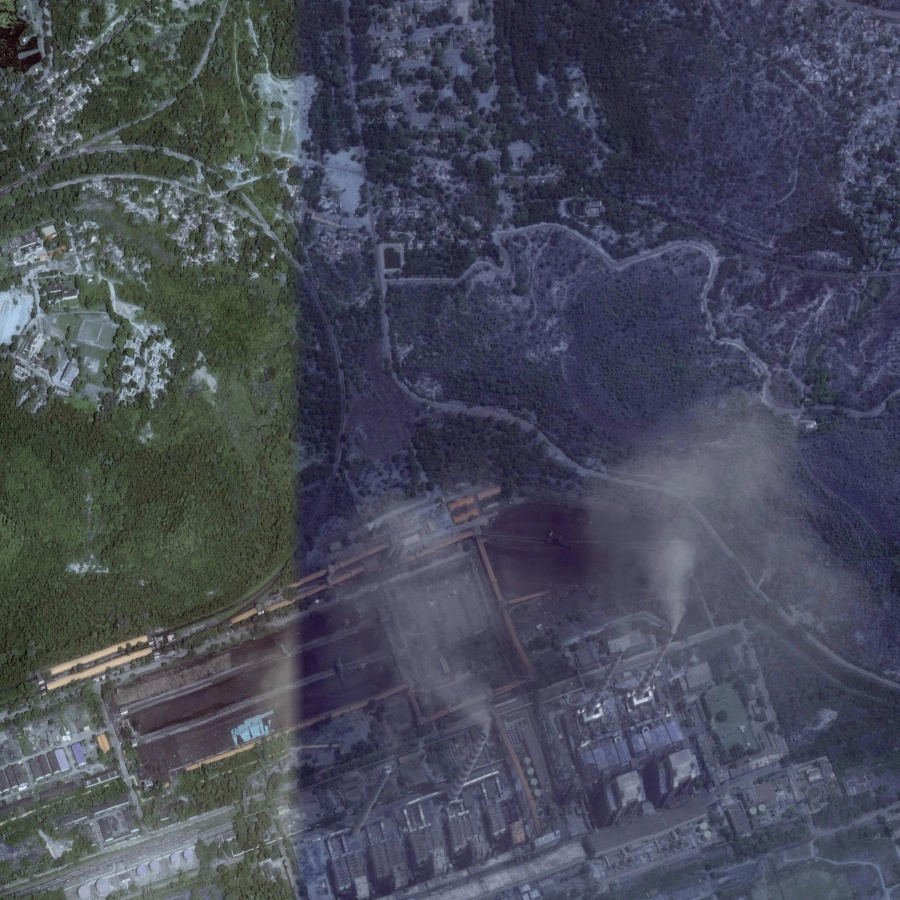PowerPlant: (324, 481, 779, 894)
